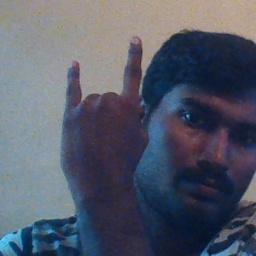V: (59, 34, 155, 191)
